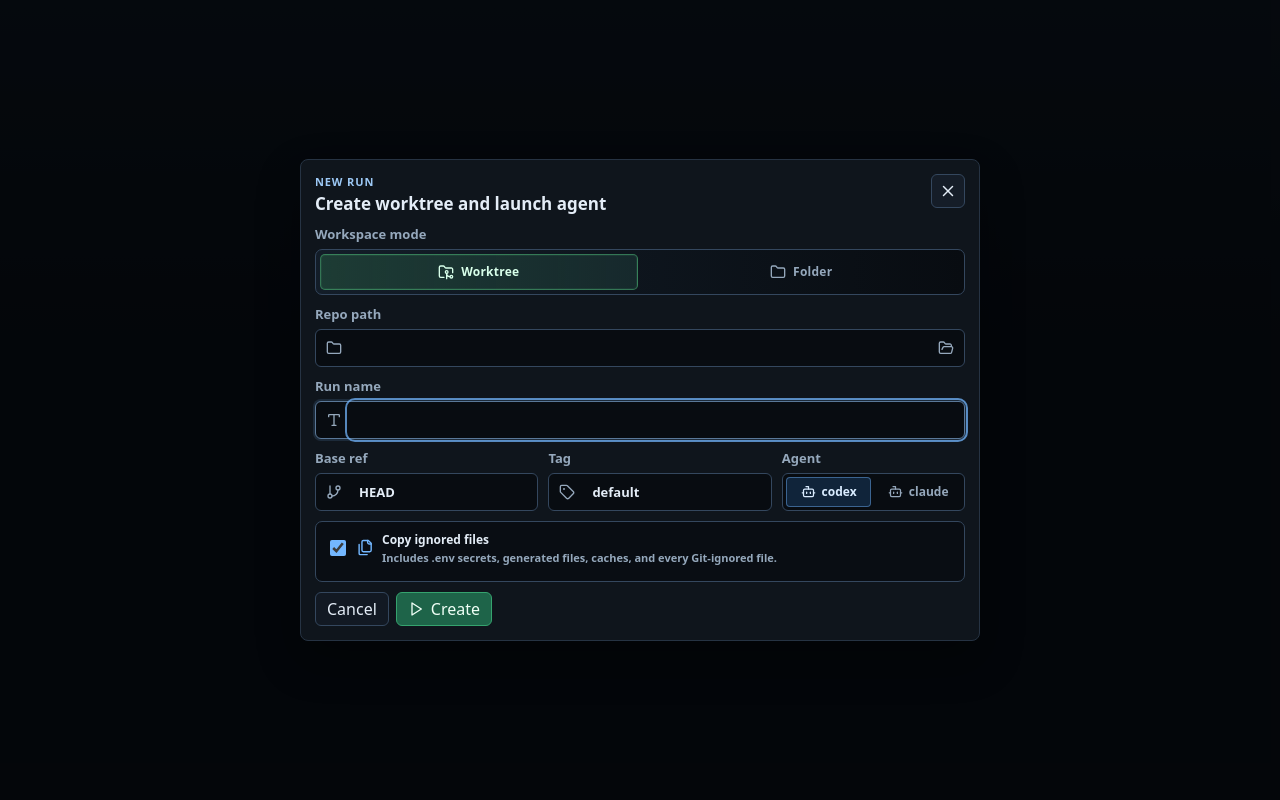
Test: CreateRunModal › hides repo path suggestions when focus leaves the field
The image size is (1280, 800).
Type "/repo" into the dropdown labelled "Repo path" at (636, 348), box [349,330,924,366]
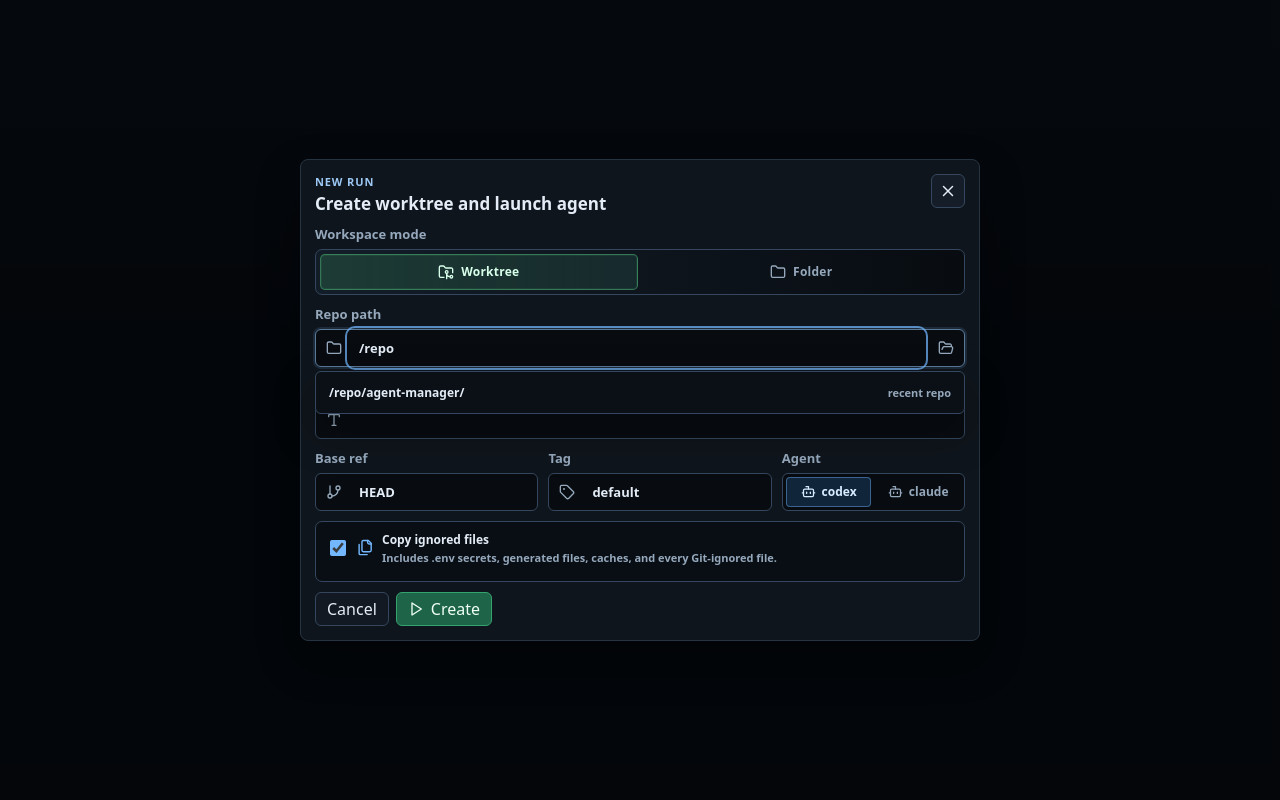
Now the option "/repo/agent-manager/ recent repo" is shown, box [320,376,960,409]
Click the field labelled "Run name" at (656, 420), box [349,402,964,438]
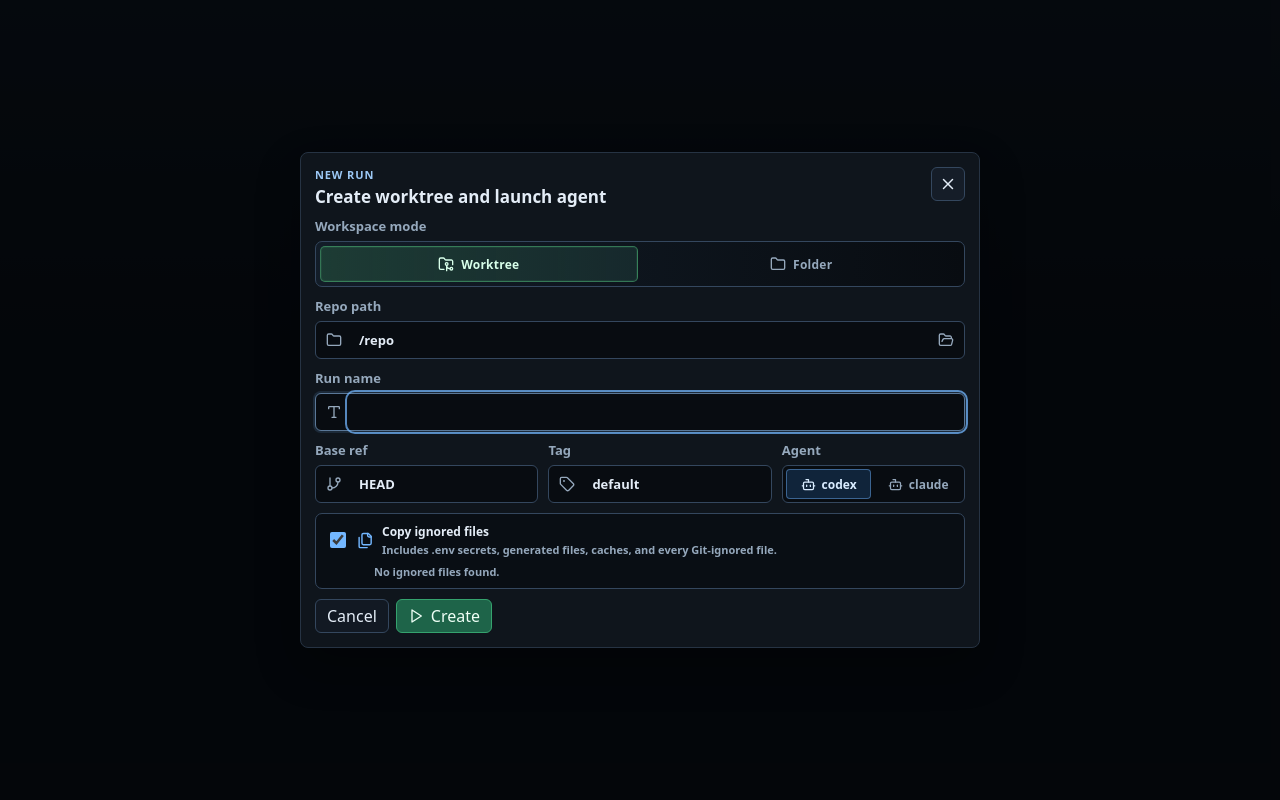
Now the option "/repo/agent-manager/ recent repo" is gone
